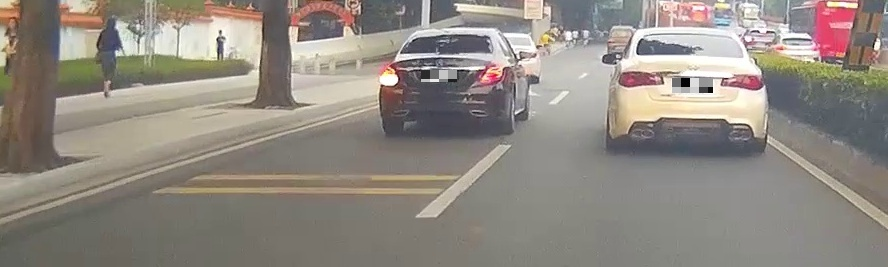L_light: (616, 71, 665, 87), (379, 67, 407, 87)
R_light: (470, 60, 504, 87), (720, 73, 765, 91)
T_light: (680, 34, 700, 39), (440, 32, 457, 37)
day-no: (612, 28, 769, 156)
day-right: (378, 27, 507, 136)
plate_1: (421, 70, 457, 82)
plate_2: (672, 78, 713, 93)
